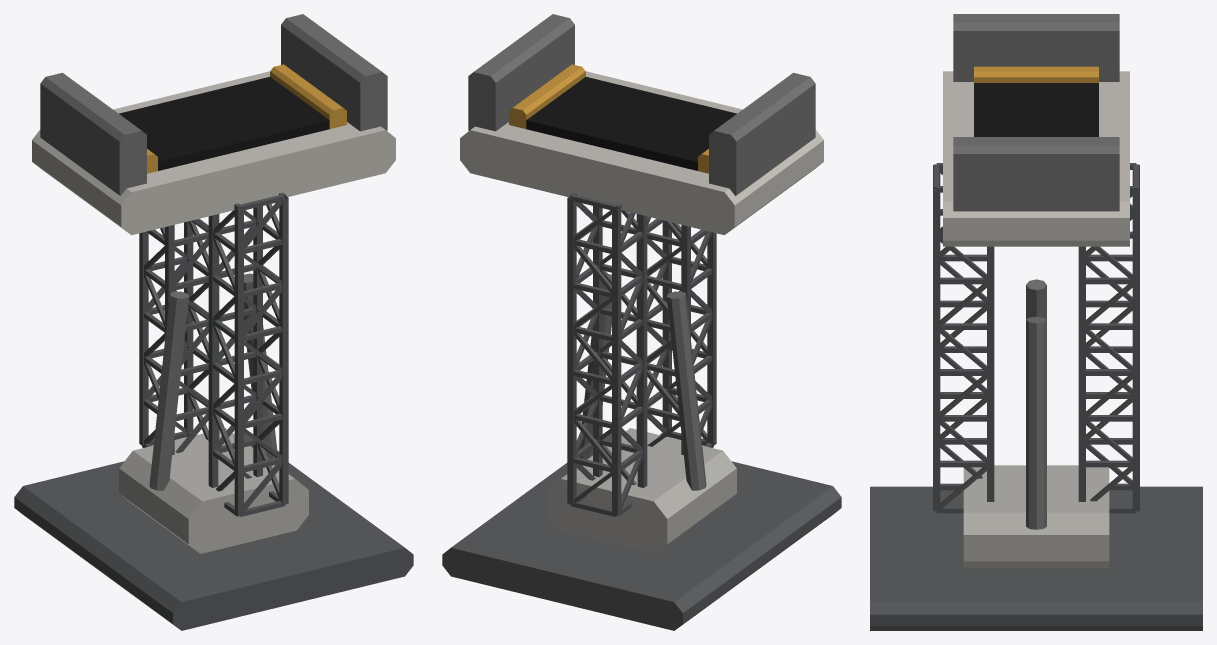
Rendered from clampArm.glb.
The picture shows the model from 3 angles, left to right: view 1: azimuth 30°, elevation 25°; view 2: azimuth 150°, elevation 25°; view 3: azimuth 270°, elevation 25°; orthographic projection. The views are drawn at different scales.
Parts seen in each view (by area): view 1: clampArm; view 2: clampArm; view 3: clampArm.
Part boxes in pixels (x1,y1,x2,y2): clampArm: (14,14,413,630); clampArm: (442,14,841,630); clampArm: (870,14,1202,630).
Size of the model in its own units: 16 by 26.2 by 16.
